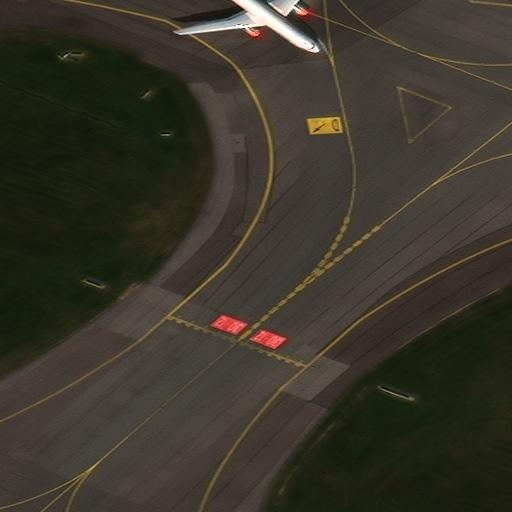Medium Civil Transport: (178, 0, 320, 54)
